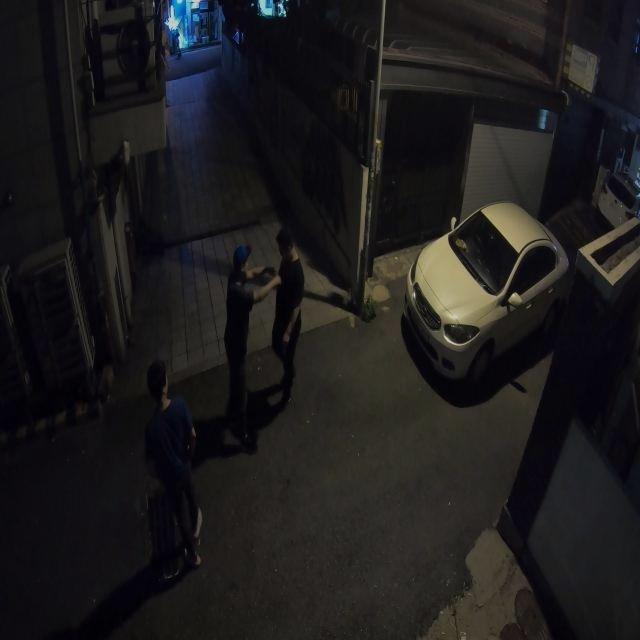fight: (220, 228, 307, 457)
non-fight: (137, 359, 206, 586)
